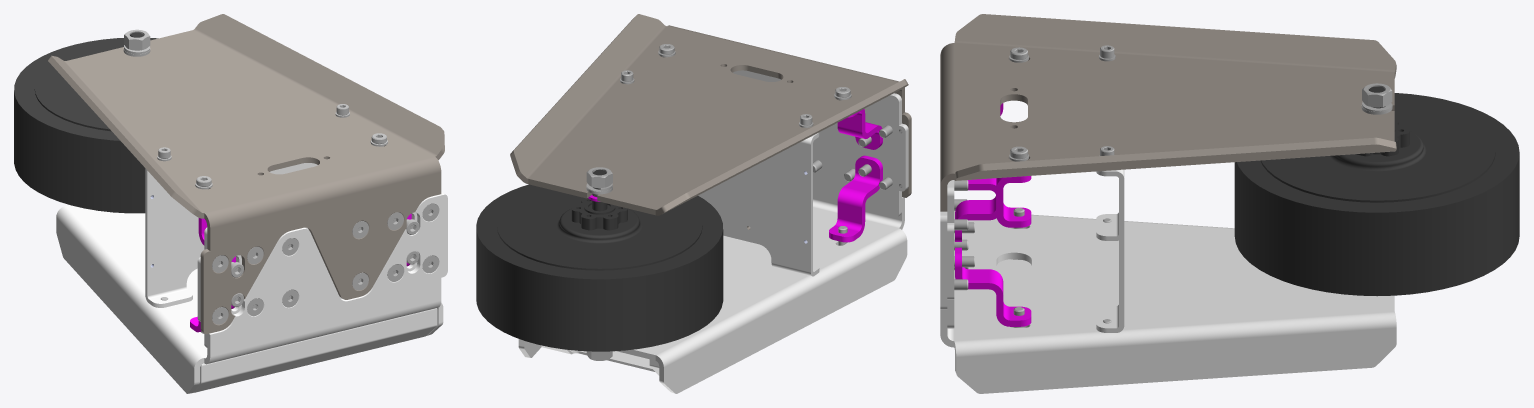
File: test_hub.obj
The picture shows the model from 3 angles, left to right: view 1: azimuth 30°, elevation 25°; view 2: azimuth 150°, elevation 25°; view 3: azimuth 270°, elevation 25°; orthographic projection. The views are drawn at different scales.
Visible parts, largest first — view 1: mesh1331, mesh1423, mesh847, mesh643, mesh1368, mesh204, mesh799, mesh778, mesh1380, mesh454, mesh791, mesh644 (+10 smaller); view 2: mesh1331, mesh643, mesh1040, mesh203, mesh799, mesh778, mesh1449, mesh1368, mesh644, mesh791, mesh1360, mesh1353 (+11 smaller); view 3: mesh1331, mesh778, mesh643, mesh787, mesh1374, mesh1040, mesh779, mesh644, mesh1369, mesh1366, mesh1380, mesh1352 (+7 smaller).
Part boxes in pixels (x1,y1,x2,y2): mesh1331: (66, 30, 434, 212); mesh1423: (203, 172, 441, 334); mesh847: (210, 194, 447, 356); mesh643: (14, 92, 151, 213); mesh1368: (195, 14, 441, 154); mesh204: (147, 163, 317, 295); mesh799: (56, 217, 194, 393); mesh778: (66, 205, 207, 357); mesh1380: (204, 157, 441, 228); mesh454: (201, 309, 437, 381); mesh791: (56, 206, 203, 368); mesh644: (14, 38, 158, 140); mesh1331: (528, 26, 897, 209); mesh643: (476, 229, 723, 351); mesh1040: (497, 188, 702, 268); mesh203: (698, 142, 810, 272); mesh799: (664, 241, 907, 393); mesh778: (633, 207, 898, 355); mesh1449: (733, 70, 905, 217); mesh1368: (513, 14, 663, 176); mesh644: (476, 184, 722, 279); mesh791: (656, 228, 907, 367); mesh1360: (688, 79, 906, 196); mesh1353: (526, 25, 666, 178); mesh1331: (954, 43, 1394, 173); mesh778: (954, 211, 1394, 341); mesh643: (1234, 154, 1519, 296); mesh787: (956, 328, 1396, 393); mesh1374: (955, 14, 1395, 69); mesh1040: (1261, 101, 1495, 200); mesh779: (954, 311, 1396, 357); mesh644: (1237, 93, 1519, 212); mesh1369: (955, 144, 1396, 180); mesh1366: (983, 138, 1374, 170); mesh1380: (940, 43, 954, 184); mesh1352: (954, 40, 1395, 72).
Size of the model in its own units: 0.3299 by 0.2364 by 0.5252.
